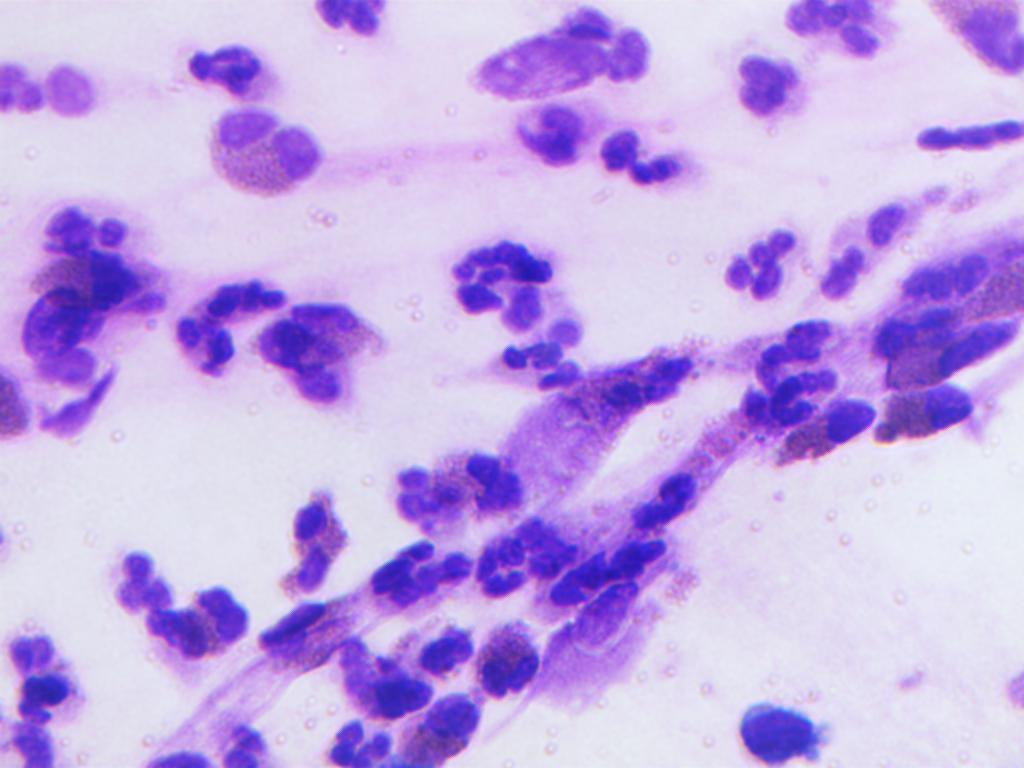artifact: (468, 4, 661, 106), (0, 48, 110, 123), (43, 354, 131, 442)
eosinophil: (250, 301, 398, 404), (183, 103, 321, 200), (257, 472, 355, 598), (884, 313, 1022, 391), (588, 341, 712, 426), (904, 242, 1024, 324), (920, 0, 1024, 91), (14, 248, 151, 316), (139, 590, 250, 672), (382, 440, 483, 526), (264, 588, 354, 679), (780, 391, 879, 468), (401, 692, 488, 767), (476, 617, 539, 706), (0, 344, 46, 453)
epithelial: (498, 96, 589, 176)
neutrophil: (170, 271, 288, 377), (436, 228, 548, 334), (819, 192, 914, 302), (549, 533, 677, 613), (352, 530, 481, 609), (478, 512, 579, 608), (592, 113, 700, 202), (162, 21, 270, 110), (708, 40, 816, 129), (702, 214, 810, 302), (727, 680, 832, 767), (777, 0, 911, 68), (489, 320, 613, 393), (13, 617, 83, 733), (336, 633, 429, 718), (726, 361, 832, 429), (873, 381, 980, 444), (628, 459, 710, 536), (748, 310, 843, 374), (150, 722, 278, 768), (38, 201, 137, 260), (919, 109, 1022, 162), (408, 609, 484, 680), (309, 0, 414, 49), (466, 444, 532, 518), (866, 307, 959, 357), (110, 550, 173, 617), (326, 716, 397, 768)
